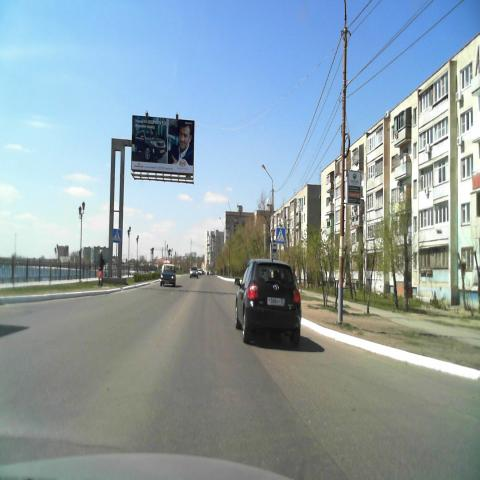5_19_1: (276, 227, 285, 244)
